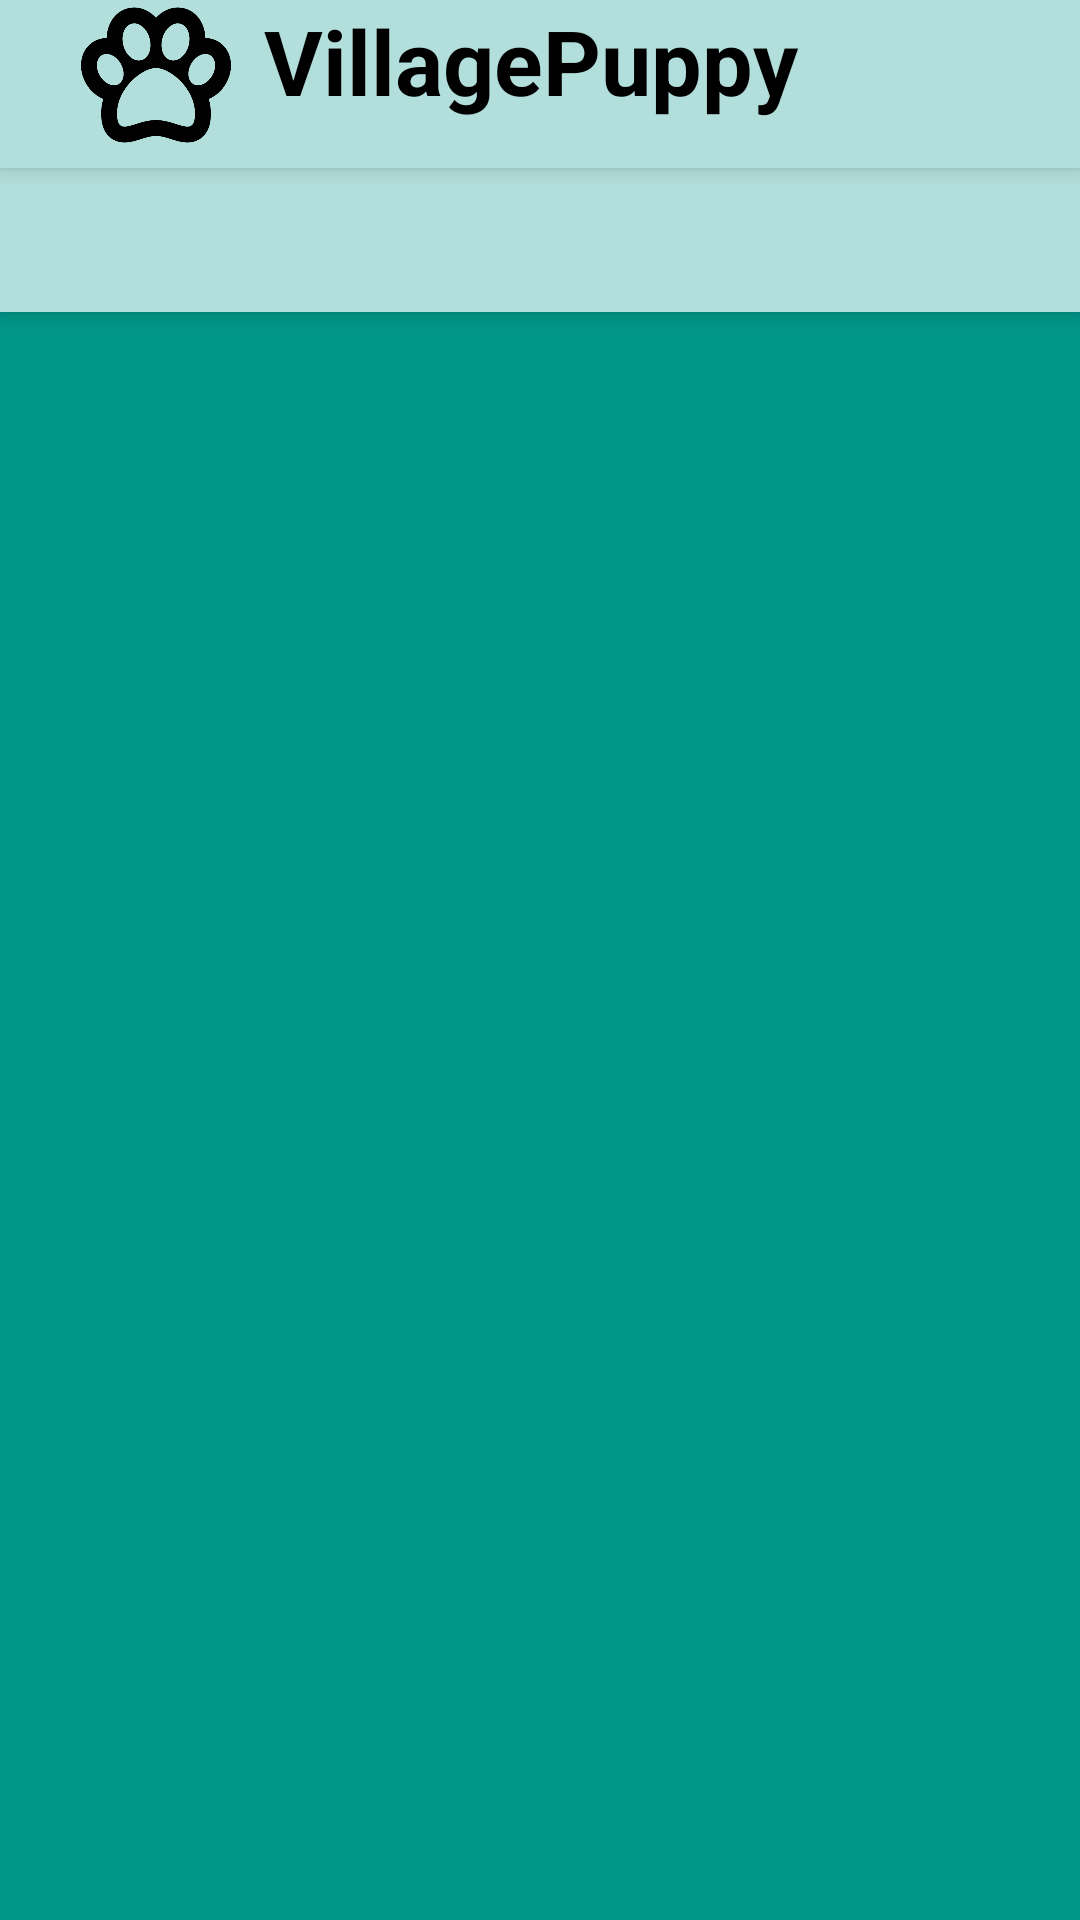

Where icons sit on this 1080w x 1920h app screen, as (x1, y1, x2, y2):
huella: (81, 7, 231, 143)
